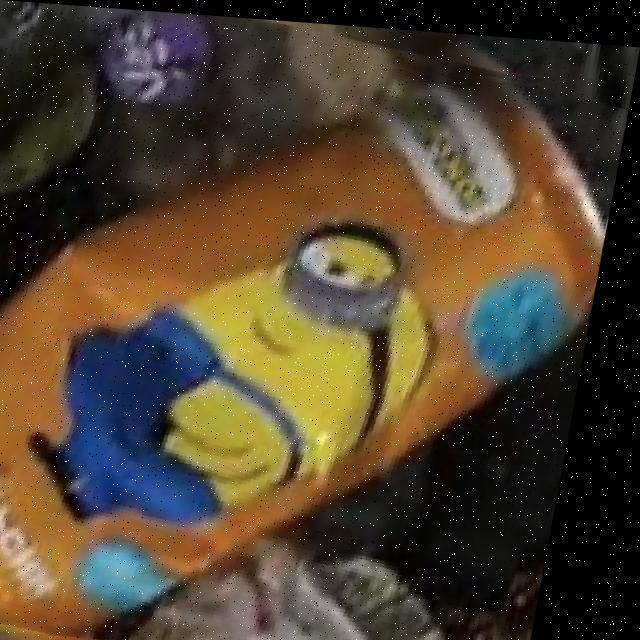litter: (0, 68, 610, 634)
